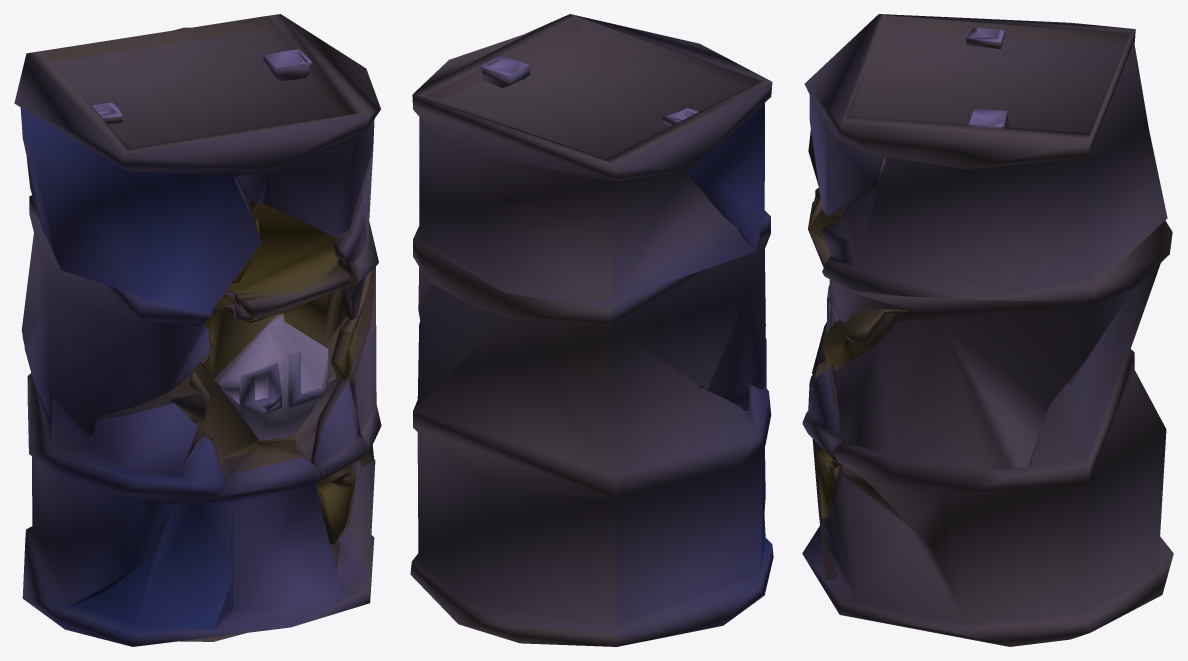
Rendered from model.progressive.glb.
3 views of the same model, side by side, from view 1: azimuth 30°, elevation 25°; view 2: azimuth 150°, elevation 25°; view 3: azimuth 270°, elevation 25° (orthographic). The views are drawn at different scales.
Parts seen in each view (by area): view 1: SmashedOilBarrel2; view 2: SmashedOilBarrel2; view 3: SmashedOilBarrel2.
Boxes of the visible parts, <box> form: SmashedOilBarrel2: <box>14,14,381,646</box>; SmashedOilBarrel2: <box>410,14,773,646</box>; SmashedOilBarrel2: <box>802,14,1173,646</box>.
Bounding box in the file's own units: 1.27 × 1.89 × 1.28.
1 material, 1 textured.
